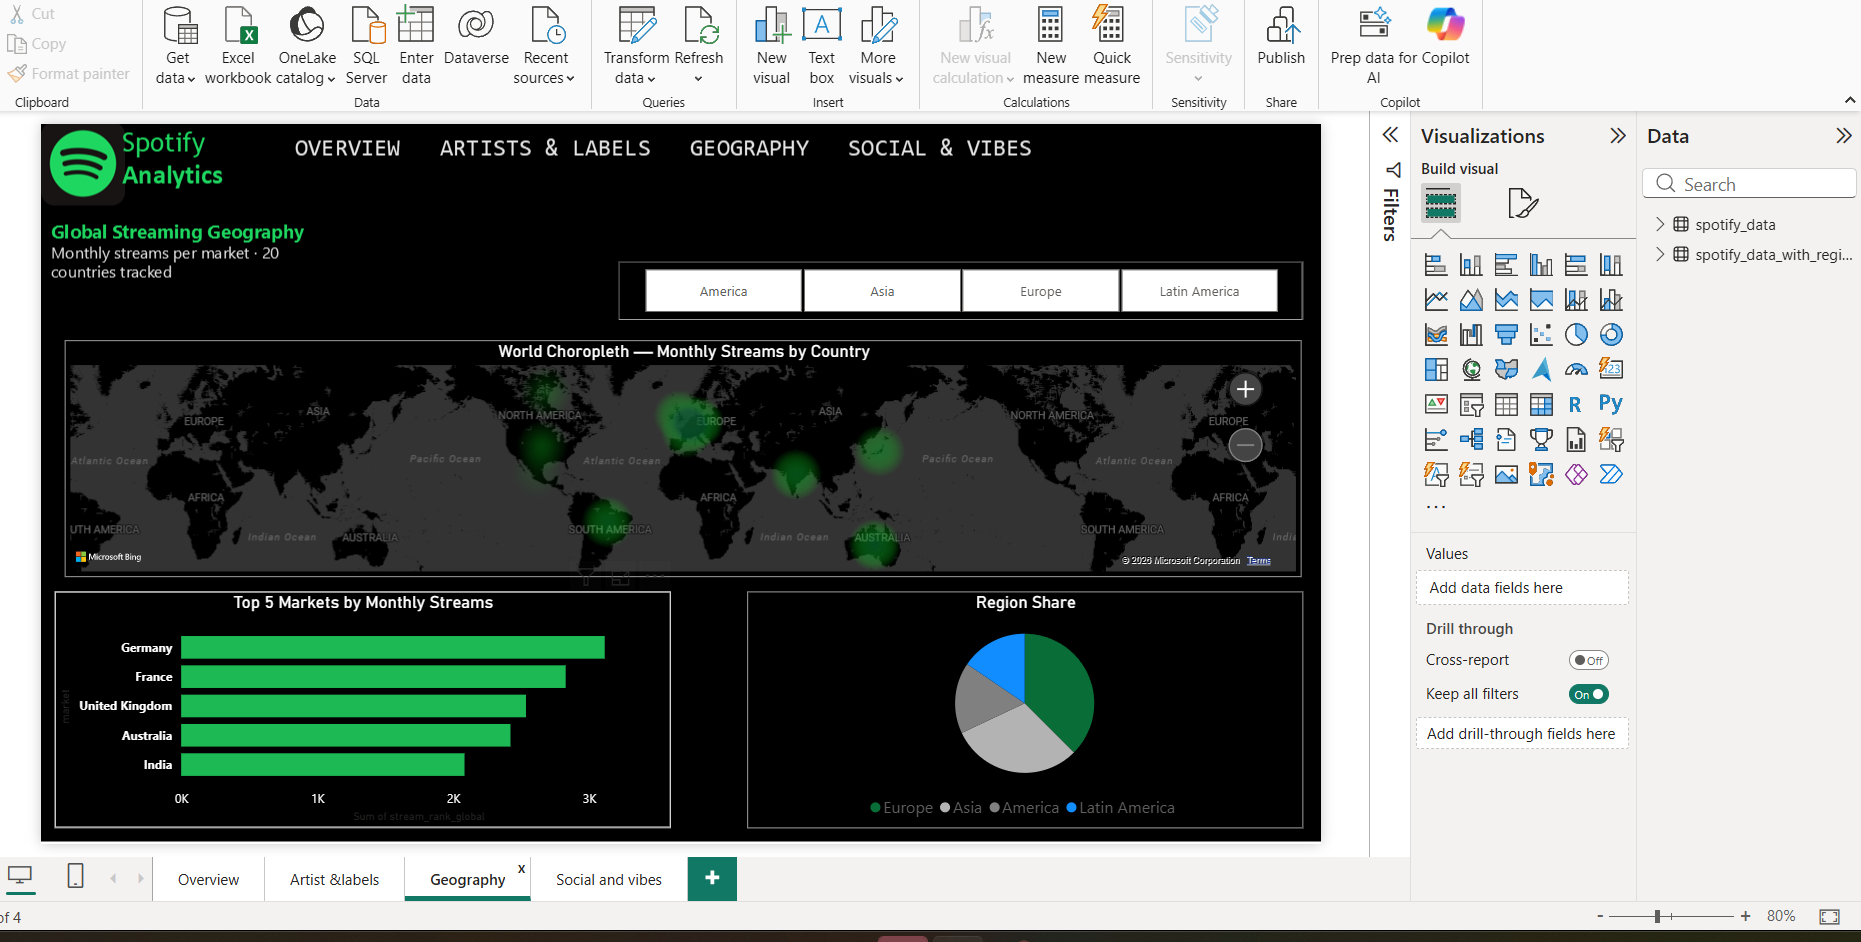

What the dashboard file says about the page in this screenshot:
{"tool":"powerbi","page":{"name":"Geography","canvas":[1280,720],"ordinal":2},"visuals":[{"type":"actionButton","box":[395.2,9.6,218.2,39.8],"z":0},{"type":"actionButton","box":[639.5,9.6,133.1,41.2],"z":1000},{"type":"actionButton","box":[247,9.6,122.1,39.8],"z":2000},{"type":"actionButton","box":[794.5,9.6,222.3,39.8],"z":3000},{"type":"map","title":"World Choropleth — Monthly Streams by Country","fields":{"Category":["spotify_data_with_regions.market"],"Size":["Sum(spotify_data.monthly_streams)"]},"box":[24.3,215.7,1237.1,237.1],"z":4000},{"type":"pieChart","title":"Region Share","fields":{"Category":["spotify_data_with_regions.region"],"Y":["CountNonNull(spotify_data_with_regions.market)"]},"box":[705.7,467.1,555.7,237.1],"z":5000},{"type":"clusteredBarChart","title":"Top 5 Markets by Monthly Streams","fields":{"Category":["spotify_data_with_regions.market"],"Y":["Sum(spotify_data.stream_rank_global)"]},"box":[14.3,467.1,615.7,237.1],"z":6000},{"type":"slicer","title":"Label ","fields":{"Values":["spotify_data_with_regions.region"]},"box":[577.1,137.1,684.3,58.6],"z":7000}]}

Visuals, with their boxes on the page's 1280x720 design canvas (x1, y1, x2, y2). These are canvas units, not pixel positions in the 1861x942 screenshot, which may show the page scaled, cropped or inside an application window:
actionButton: detection(395, 10, 613, 49)
actionButton: detection(640, 10, 773, 51)
actionButton: detection(247, 10, 369, 49)
actionButton: detection(794, 10, 1017, 49)
"World Choropleth — Monthly Streams by Country" map: detection(24, 216, 1261, 453)
"Region Share" pieChart: detection(706, 467, 1261, 704)
"Top 5 Markets by Monthly Streams" clusteredBarChart: detection(14, 467, 630, 704)
"Label " slicer: detection(577, 137, 1261, 196)
